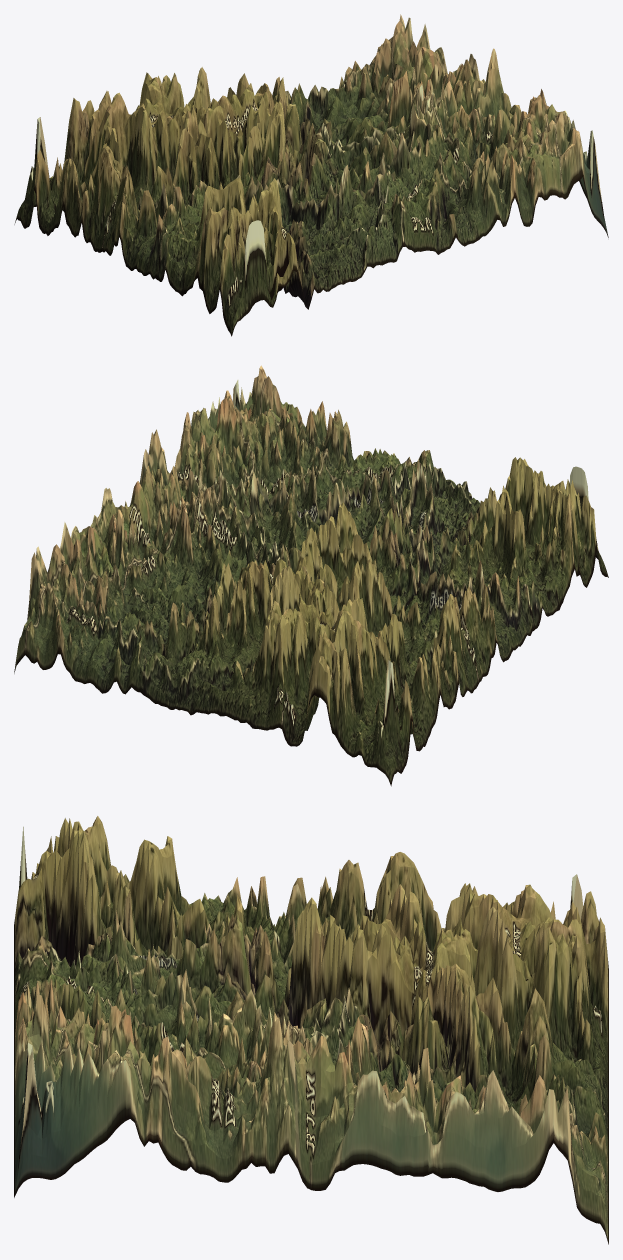
The model's file is terrain-lod3.glb.
The picture shows the model from 3 angles, top to bottom: view 1: azimuth 30°, elevation 25°; view 2: azimuth 150°, elevation 25°; view 3: azimuth 270°, elevation 25°; orthographic projection. The views are drawn at different scales.
Parts seen in each view (by area): view 1: geometry_0; view 2: geometry_0; view 3: geometry_0.
Boxes of the visible parts, x1=… form: geometry_0: x1=14, y1=14, x2=608, y2=336; geometry_0: x1=14, y1=365, x2=608, y2=786; geometry_0: x1=14, y1=816, x2=608, y2=1244.
Size of the model in its own units: 1534 by 721 by 1534.
Materials: 1 (1 with a texture image).
